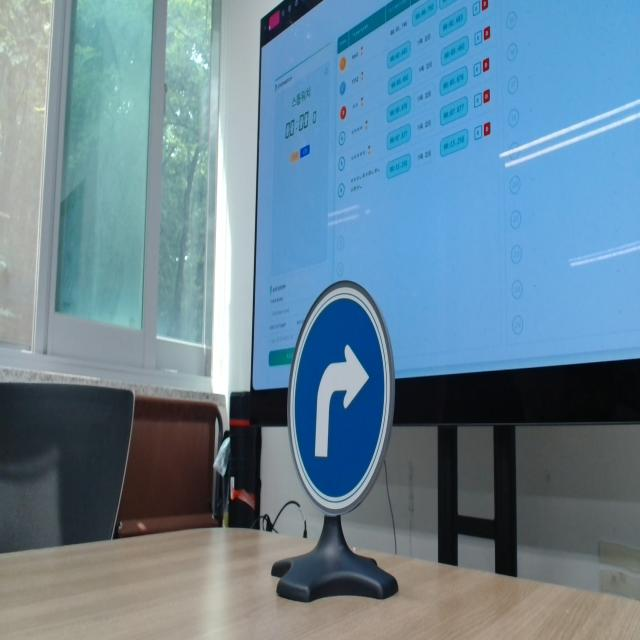right_dierection: (280, 254, 415, 547)
